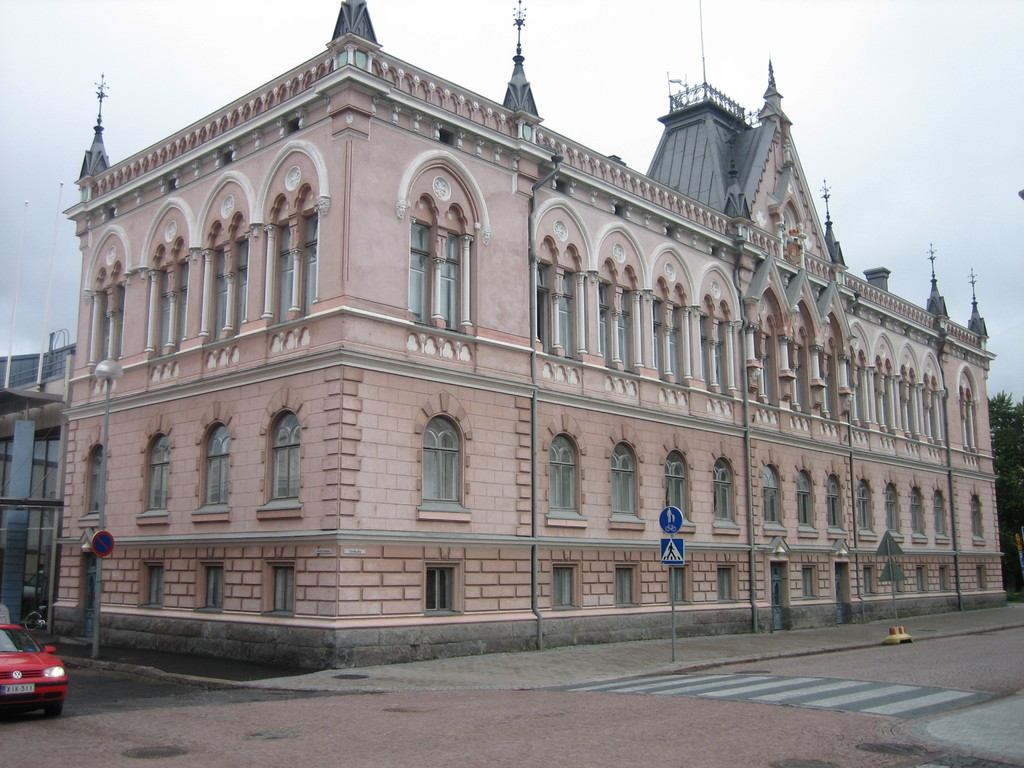Car: (0, 623, 68, 715)
